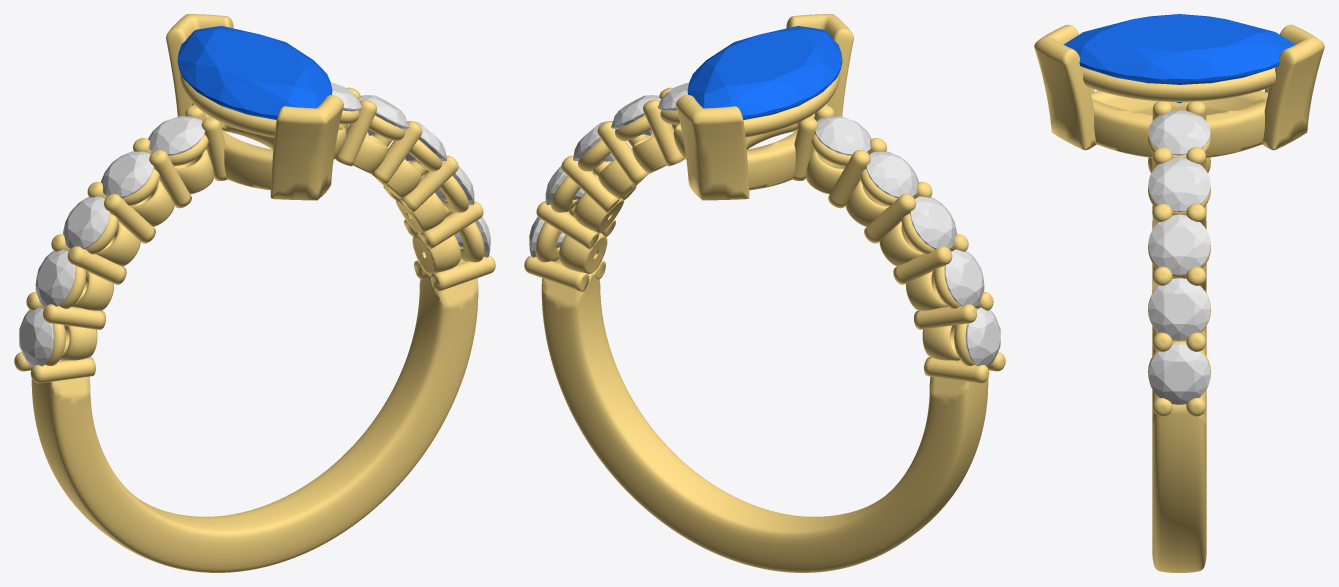
File: bluesapphire-marquise-yellowgold-protectededges2prongs-straightband-11stone.glb
3 views of the same model, side by side, from view 1: azimuth 30°, elevation 25°; view 2: azimuth 150°, elevation 25°; view 3: azimuth 270°, elevation 25° (orthographic). The views are drawn at different scales.
Parts seen in each view (by area): view 1: metal, stone, side.002, side.003, side.001, side.004, side, side.008; view 2: metal, stone, side.002, side.003, side.001, side.004, side, side.008; view 3: metal, stone, side.006, side.005, side.007, side.008, side.009.
Part boxes in pixels (bbox=[...]): metal: bbox=[14, 14, 495, 572]; stone: bbox=[177, 26, 332, 119]; side.002: bbox=[63, 196, 109, 249]; side.003: bbox=[101, 151, 153, 197]; side.001: bbox=[35, 249, 75, 306]; side.004: bbox=[148, 116, 205, 155]; side: bbox=[19, 307, 54, 366]; side.008: bbox=[358, 95, 408, 135]; metal: bbox=[524, 14, 1005, 572]; stone: bbox=[687, 26, 842, 119]; side.002: bbox=[910, 196, 956, 249]; side.003: bbox=[866, 151, 918, 197]; side.001: bbox=[944, 249, 984, 306]; side.004: bbox=[814, 116, 871, 155]; side: bbox=[965, 307, 1000, 366]; side.008: bbox=[611, 95, 661, 135]; metal: bbox=[1034, 24, 1324, 572]; stone: bbox=[1063, 14, 1295, 103]; side.006: bbox=[1148, 278, 1210, 340]; side.005: bbox=[1148, 343, 1210, 404]; side.007: bbox=[1148, 214, 1210, 274]; side.008: bbox=[1148, 157, 1210, 211]; side.009: bbox=[1148, 110, 1210, 155].
Bounding box in the file's own units: 21.97 × 22.94 × 11.69.
